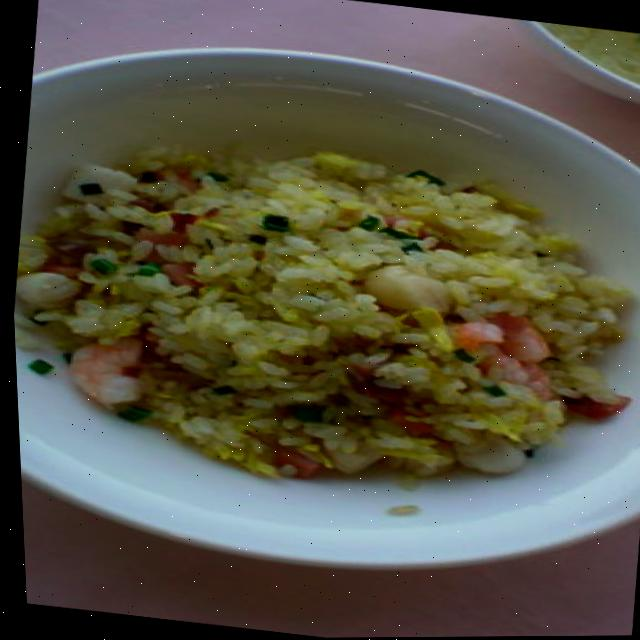米饭主食: (0, 6, 640, 612)
